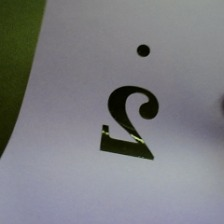violet2: (93, 40, 175, 164)
